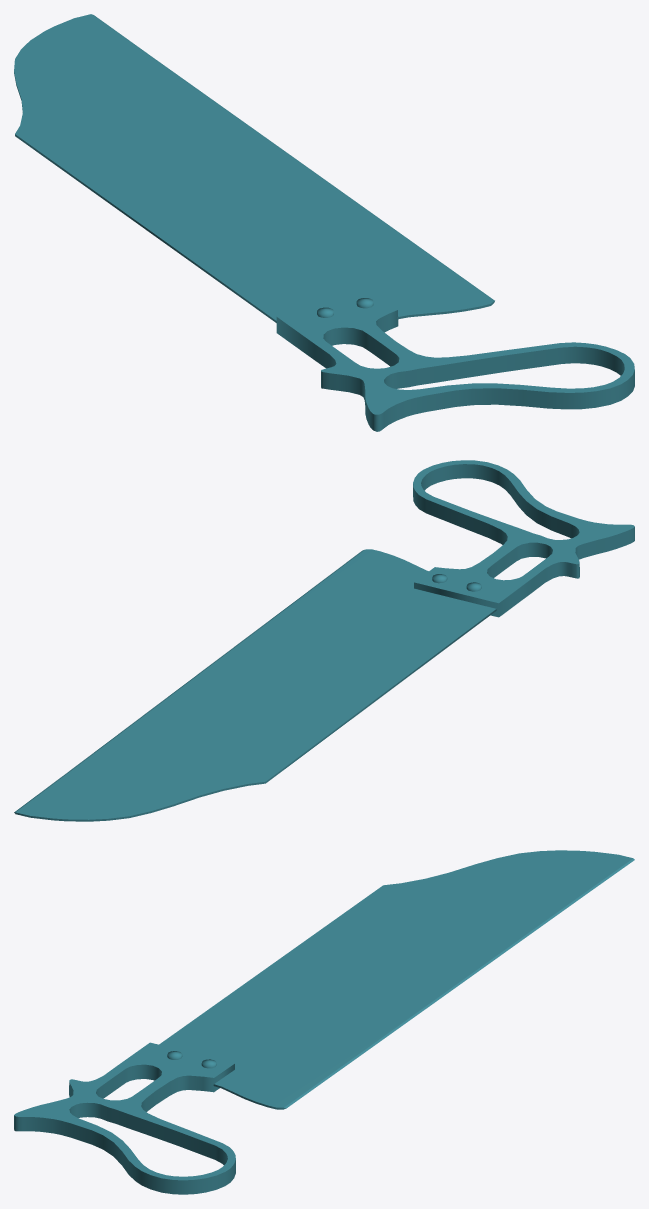
Rendered from SM_Surgical_Saw_2.FBX.
3 views of the same model, one above another, from view 1: azimuth 30°, elevation 25°; view 2: azimuth 150°, elevation 25°; view 3: azimuth 330°, elevation 25° (orthographic). The views are drawn at different scales.
Parts seen in each view (by area): view 1: Surgical_Saw_2; view 2: Surgical_Saw_2; view 3: Surgical_Saw_2.
Part boxes in pixels (x1=…): Surgical_Saw_2: x1=14, y1=14, x2=634, y2=431; Surgical_Saw_2: x1=14, y1=460, x2=634, y2=821; Surgical_Saw_2: x1=14, y1=850, x2=634, y2=1194.
Size of the model in its own units: 10.26 by 0.8422 by 37.69.
